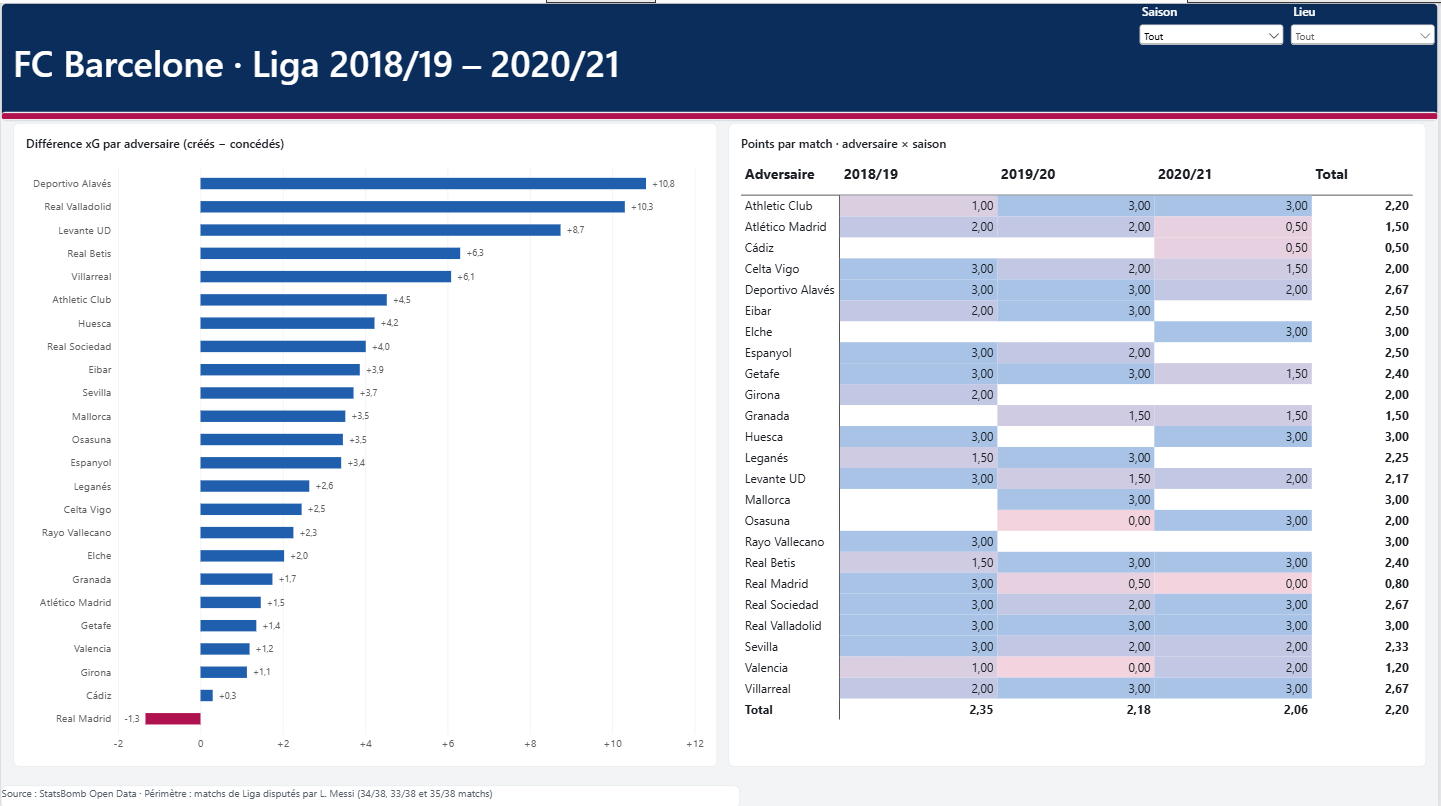

The page's visual inventory and layout, read from the dashboard file:
{"tool":"powerbi","page":{"name":"Adversaires","canvas":[1920,1080],"ordinal":4},"visuals":[{"type":"shape","box":[0,0,1920,158],"z":0},{"type":"cardVisual","fields":{"Data":["_Mesures.Titre rapport"]},"box":[0,0,1516.1,158],"z":1000},{"type":"slicer","fields":{"Values":["DimMatch.season"]},"box":[1516.1,0,202,158],"z":2000},{"type":"slicer","fields":{"Values":["DimMatch.venue"]},"box":[1718,0,202,158],"z":3000},{"type":"shape","box":[0,146,1920,12],"z":9000},{"type":"textbox","box":[0,1045,987.4,30],"z":11000},{"type":"clusteredBarChart","title":"Différence xG par adversaire (créés − concédés)","fields":{"Category":["DimMatch.opponent_name"],"Y":["_Mesures.Différence xG"]},"box":[16,160,940,860],"z":11001},{"type":"pivotTable","title":"Points par match · adversaire × saison","fields":{"Columns":["DimMatch.season"],"Rows":["DimMatch.opponent_name"],"Values":["_Mesures.Points par match"]},"box":[972,160,932,860],"z":11002}]}

Visuals, with their boxes in screenshot pixels (x1, y1, x2, y2), scaled from the page's 1920x1080 canvas onto the 1441x806 screenshot:
shape: 0, 0, 1440, 118
cardVisual - _Mesures.Titre rapport: 0, 0, 1138, 118
slicer - DimMatch.season: 1138, 0, 1289, 118
slicer - DimMatch.venue: 1289, 0, 1440, 118
shape: 0, 109, 1440, 118
textbox: 0, 780, 741, 802
"Différence xG par adversaire (créés − concédés)" clusteredBarChart: 12, 119, 717, 761
"Points par match · adversaire × saison" pivotTable: 730, 119, 1429, 761
